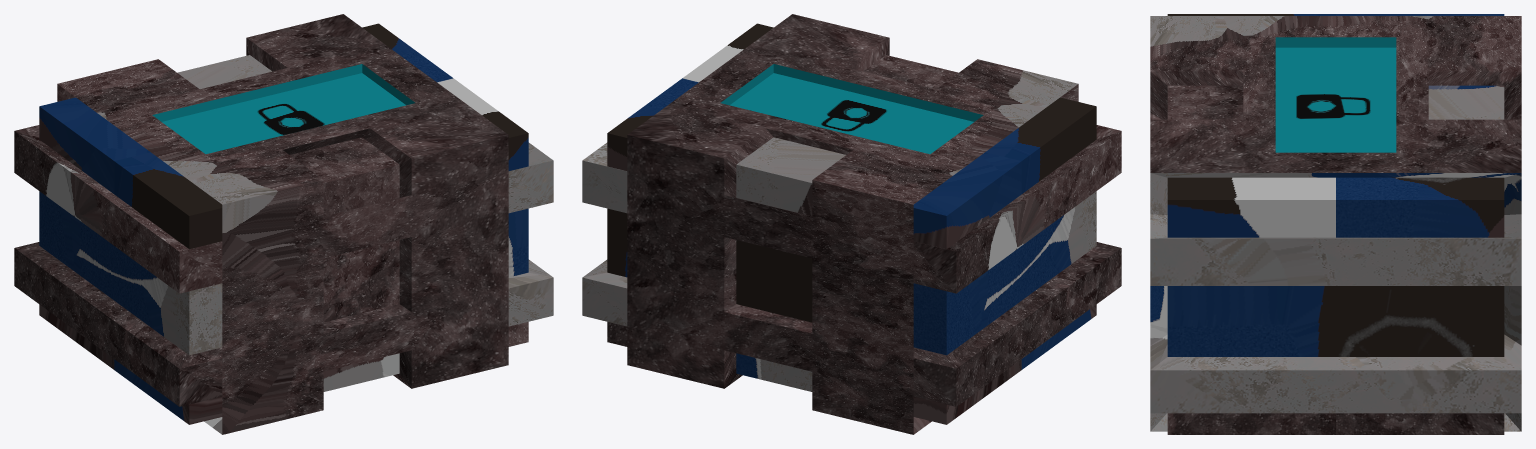
Rendered from coffreFinal.fbx.
The picture shows the model from 3 angles, left to right: view 1: azimuth 30°, elevation 25°; view 2: azimuth 150°, elevation 25°; view 3: azimuth 270°, elevation 25°; orthographic projection. The views are drawn at different scales.
Parts seen in each view (by area): view 1: coffre; view 2: coffre; view 3: coffre.
Part boxes in pixels (x1=…): coffre: x1=14, y1=14, x2=553, y2=434; coffre: x1=582, y1=14, x2=1121, y2=434; coffre: x1=1150, y1=14, x2=1521, y2=434.
Bounding box in the file's own units: 9.37 × 5.51 × 7.16.
